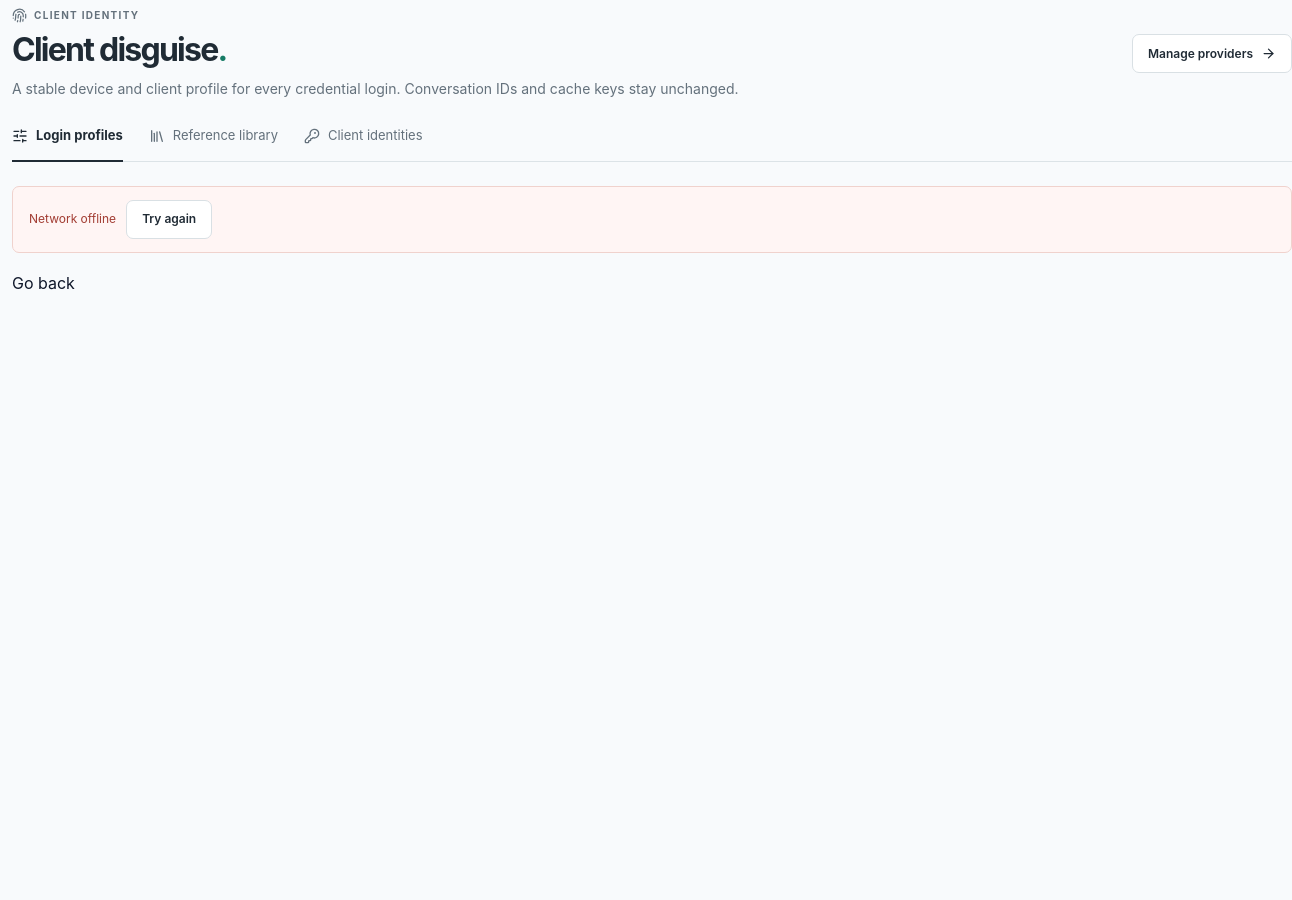
Scenario: client disguise workspace › offers retry after an initial fetch error instead of remaining in a loading state
Expected: the message shows "Network offline", [29,211,116,226]
Step 1. Click the button "Try again" → coordinates (169, 219), box [126,200,212,239]
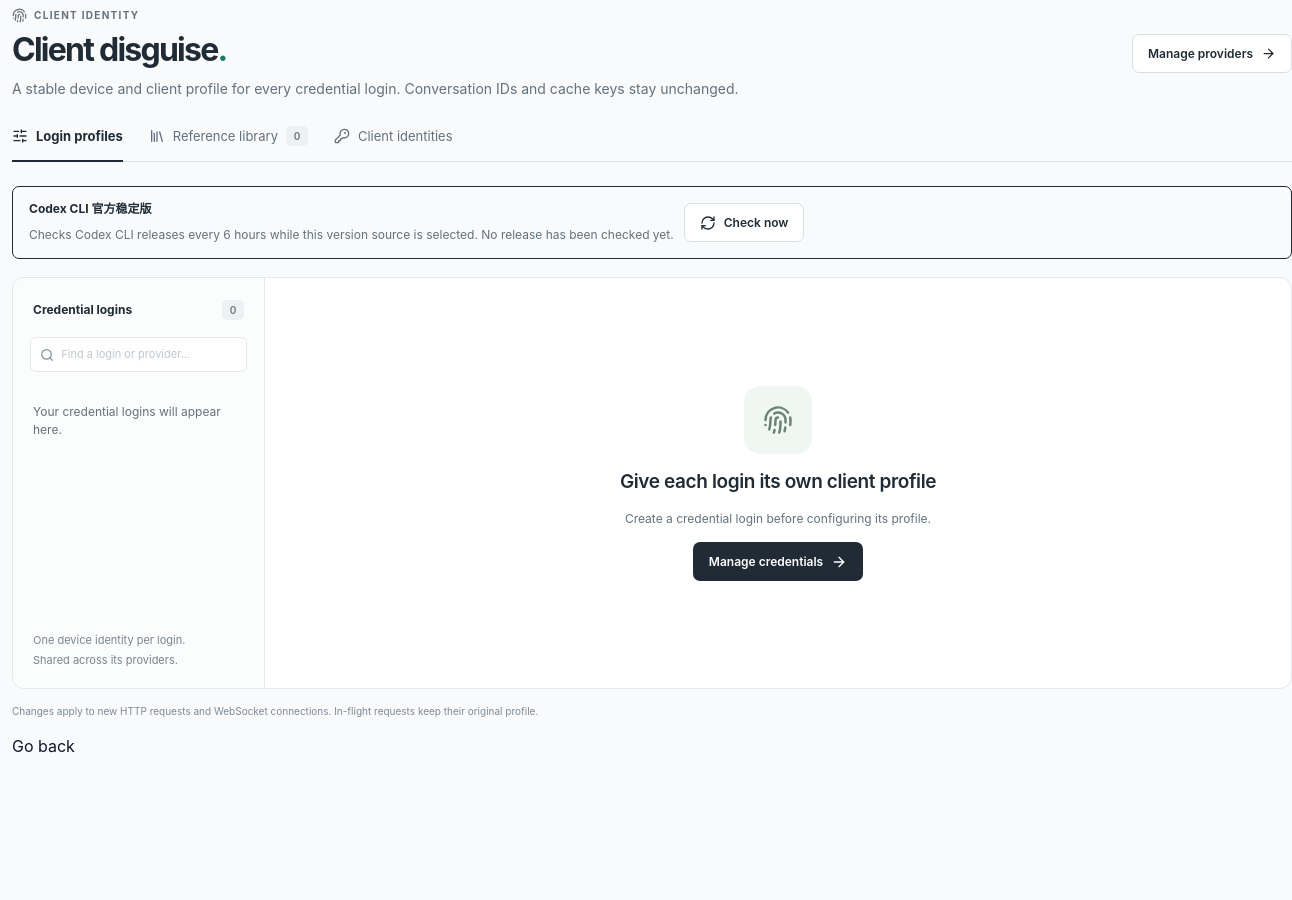
Expected: the text "Create a credential login before configuring its profile." is shown, [625,510,931,528]
